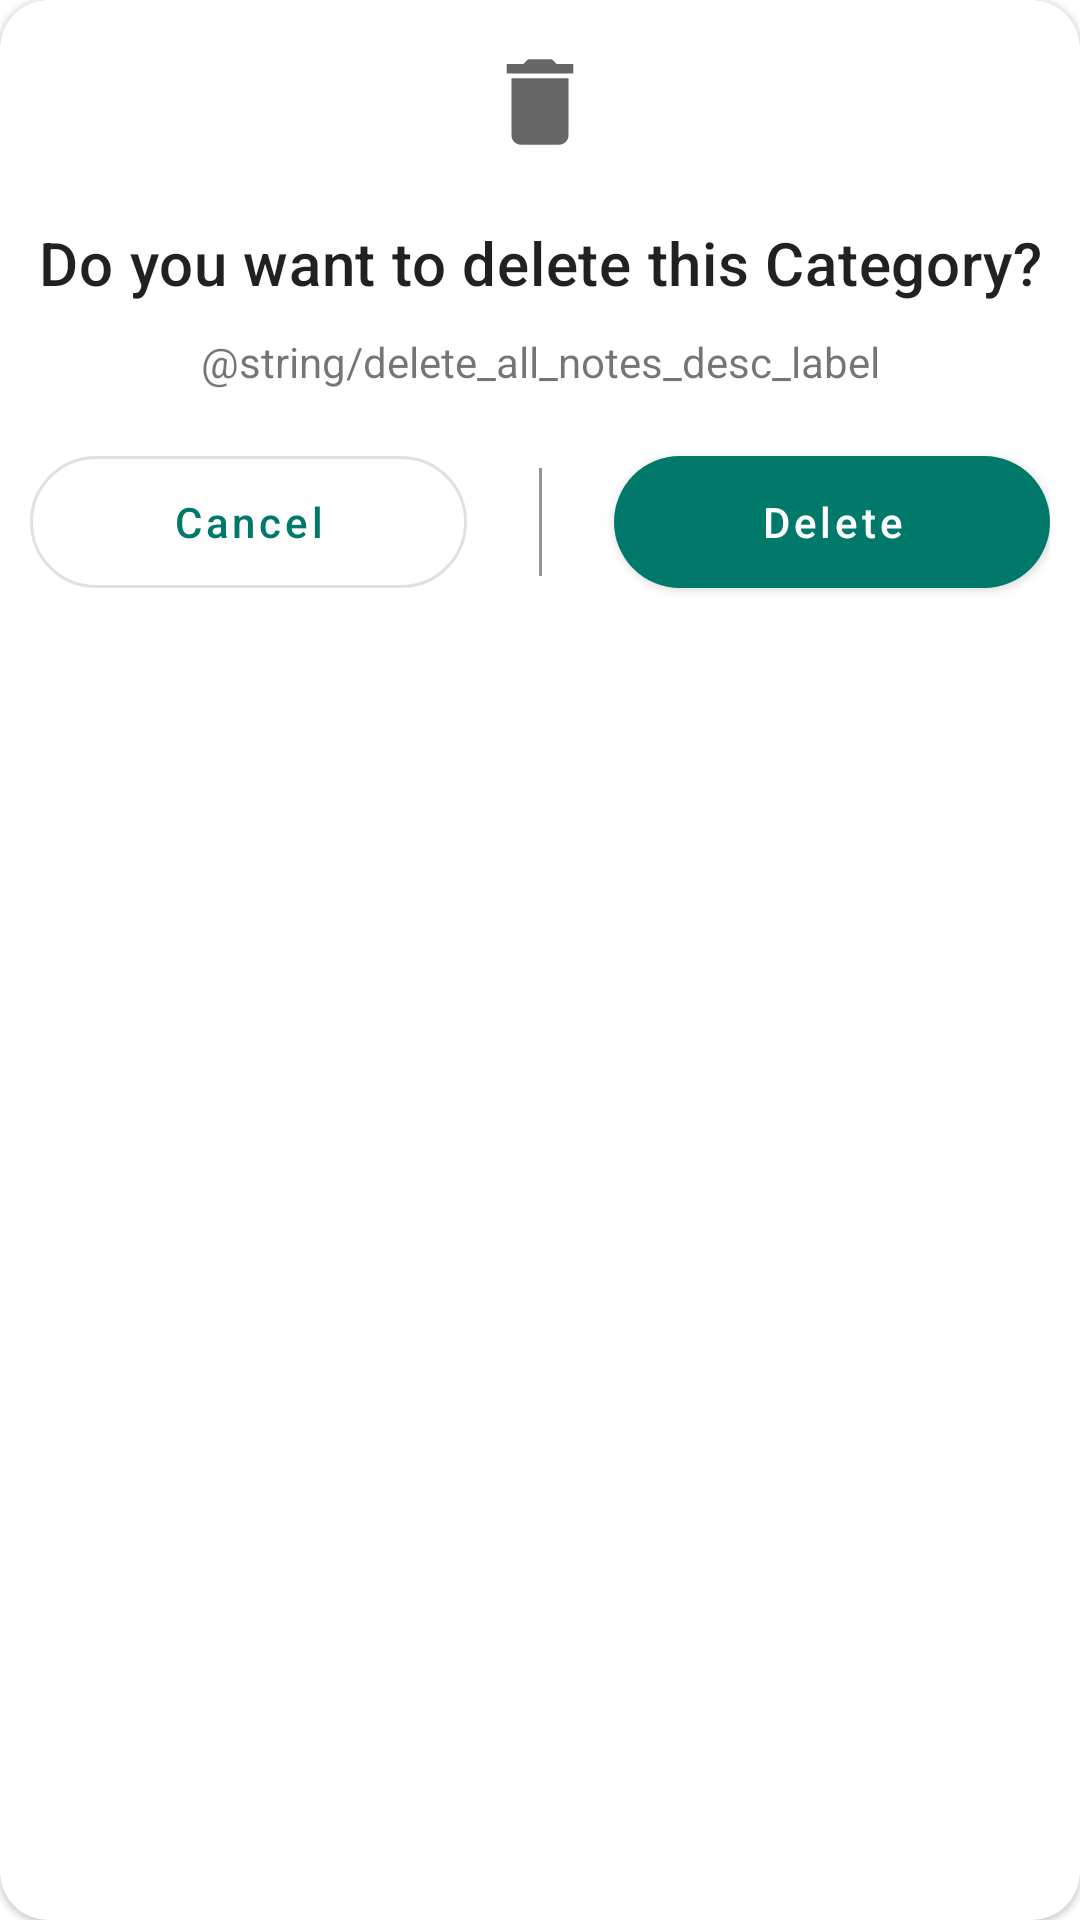

Screen size 1080w x 1920h. Icon name, then its box in pixels as (x1, y1, x2, y2):
Dialog delete image: (506, 59, 574, 145)
